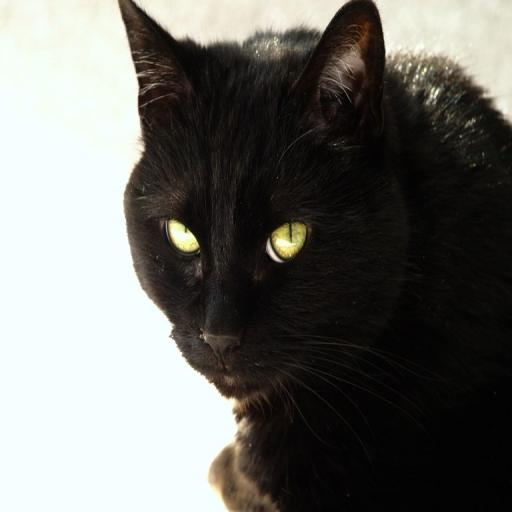cat: (117, 0, 512, 512)
